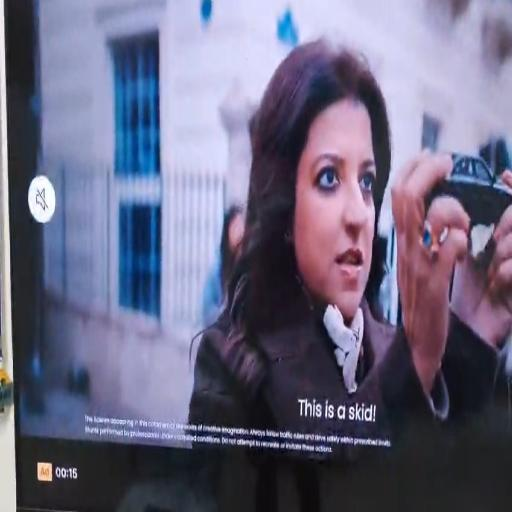ad label: (36, 460, 54, 484)
